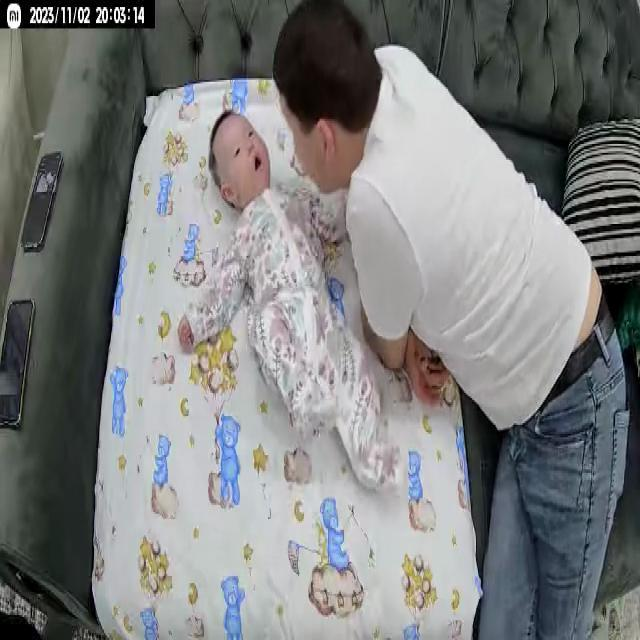baby: (175, 108, 405, 496)
